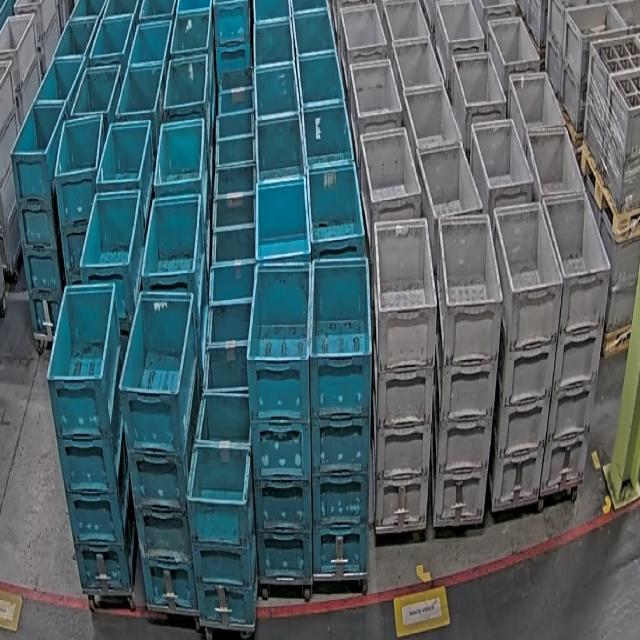4G: (488, 198, 564, 506), (431, 212, 504, 524), (538, 190, 611, 498), (372, 217, 438, 532)
B4: (46, 284, 135, 594), (118, 290, 203, 610), (245, 260, 313, 582), (308, 256, 372, 576), (10, 100, 67, 348), (53, 112, 105, 284)
B8: (186, 391, 258, 627)
